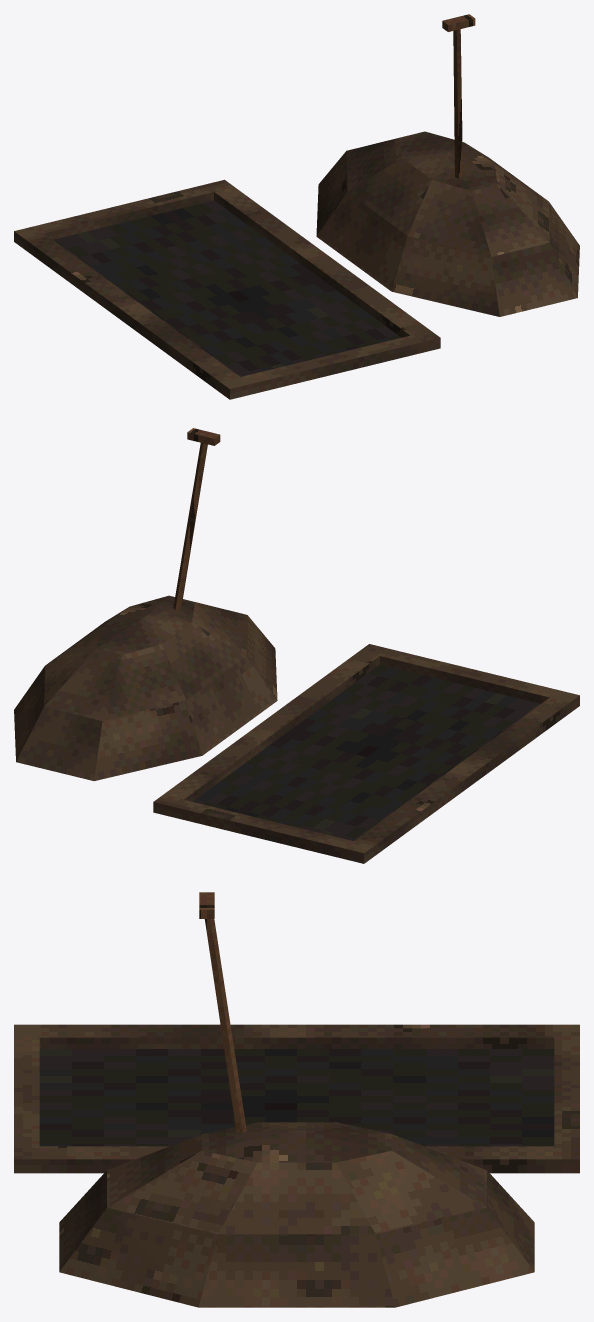
Rendered from tumba_abierta.obj.
3 views of the same model, one above another, from view 1: azimuth 30°, elevation 25°; view 2: azimuth 150°, elevation 25°; view 3: azimuth 270°, elevation 25° (orthographic). The views are drawn at different scales.
Visible parts, largest first — view 1: tumba_abierta; view 2: tumba_abierta; view 3: tumba_abierta.
Part boxes in pixels (x1=…): tumba_abierta: x1=14, y1=14, x2=579, y2=399; tumba_abierta: x1=14, y1=428, x2=579, y2=863; tumba_abierta: x1=14, y1=892, x2=579, y2=1307.
Size of the model in its own units: 2.47 by 1.42 by 2.2.
Materials: 4 (4 with a texture image).
